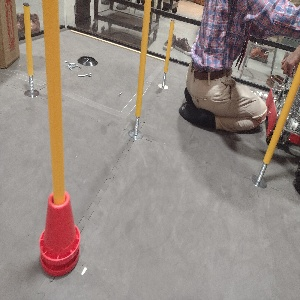Red_2: (35, 187, 83, 280)
